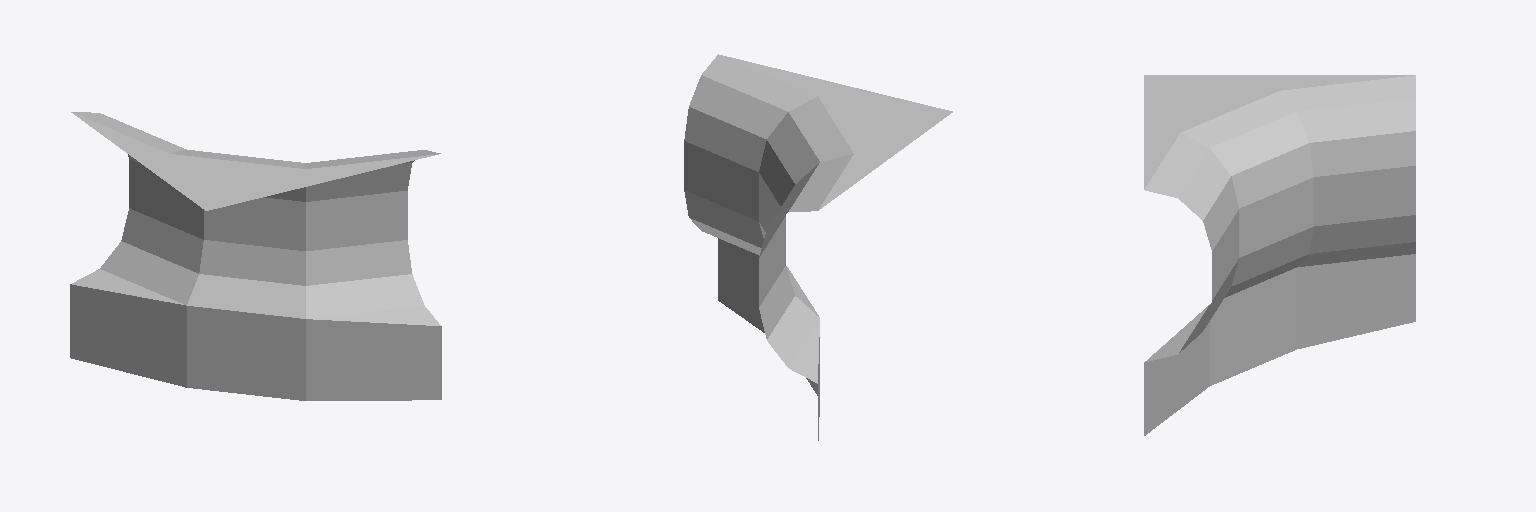
Rendered from Terrain_Cliff_Top_Corner_Inner_1x1.obj.
3 views of the same model, side by side, from view 1: azimuth 30°, elevation 25°; view 2: azimuth 150°, elevation 25°; view 3: azimuth 270°, elevation 25° (orthographic).
Parts seen in each view (by area): view 1: Grass, Rock; view 2: Grass, Rock; view 3: Grass, Rock.
Part boxes in pixels (x1,y1,x2,y2): Grass: (71,112,440,325); Rock: (70,284,441,400); Grass: (684,54,952,383); Rock: (718,238,819,440); Grass: (1144,75,1415,362); Rock: (1144,254,1415,435).
Size of the model in its own units: 1 by 1 by 1.